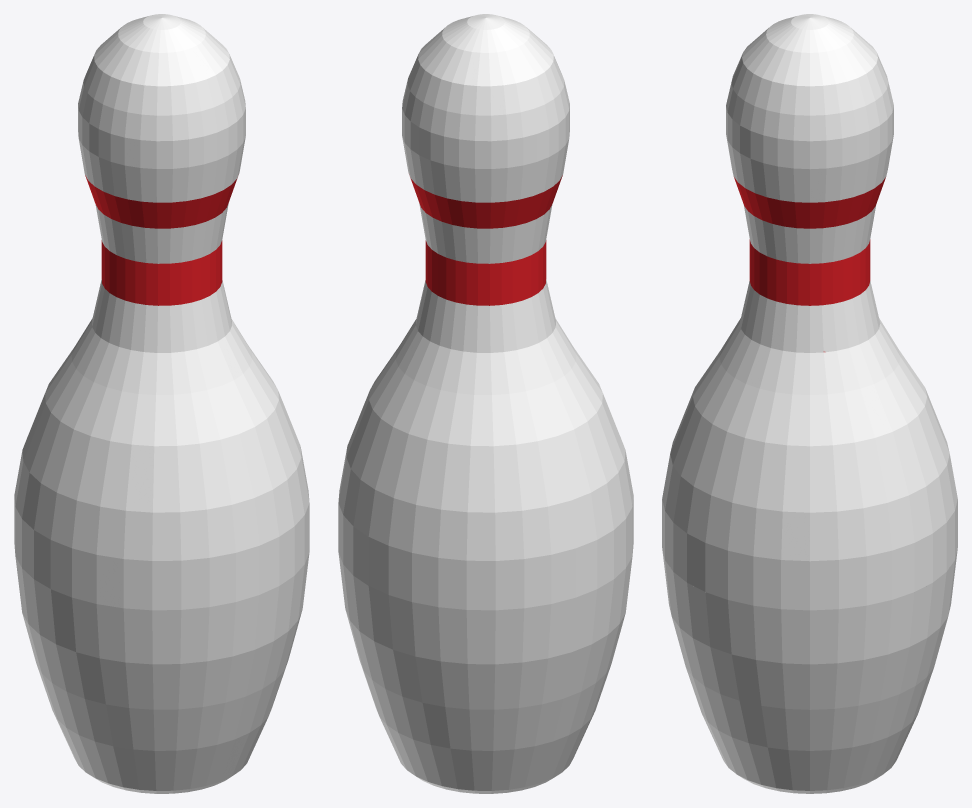
The model's file is pin.dae.
The picture shows the model from 3 angles, left to right: view 1: azimuth 30°, elevation 25°; view 2: azimuth 150°, elevation 25°; view 3: azimuth 270°, elevation 25°; orthographic projection.
Parts seen in each view (by area): view 1: pin; view 2: pin; view 3: pin.
Part boxes in pixels (x1,y1,x2,y2): pin: (14,14,309,793); pin: (338,14,633,793); pin: (662,14,957,793).
Size of the model in its own units: 0.1374 by 0.1374 by 0.3805.
Materials: 1 (1 with a texture image).
